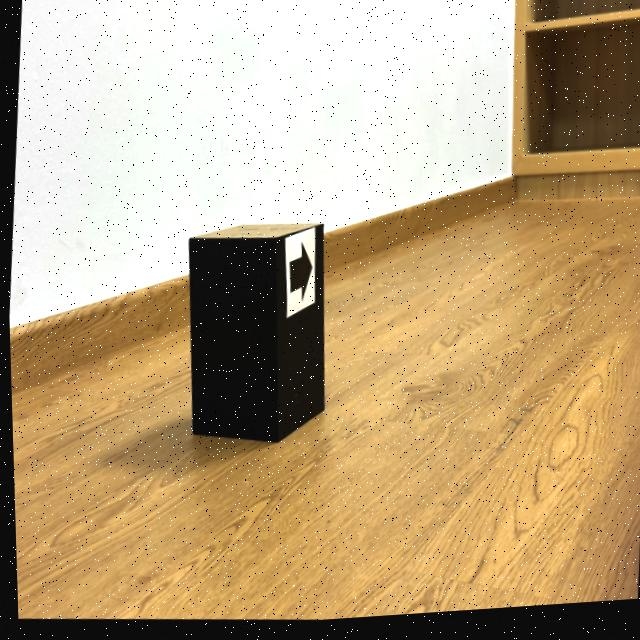RIGHT: (287, 248, 310, 303)
